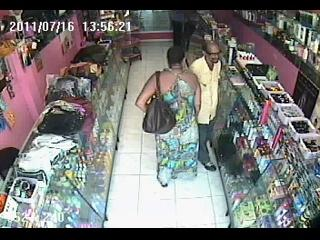Normal: (134, 46, 202, 187), (189, 40, 223, 172), (142, 70, 176, 134)
